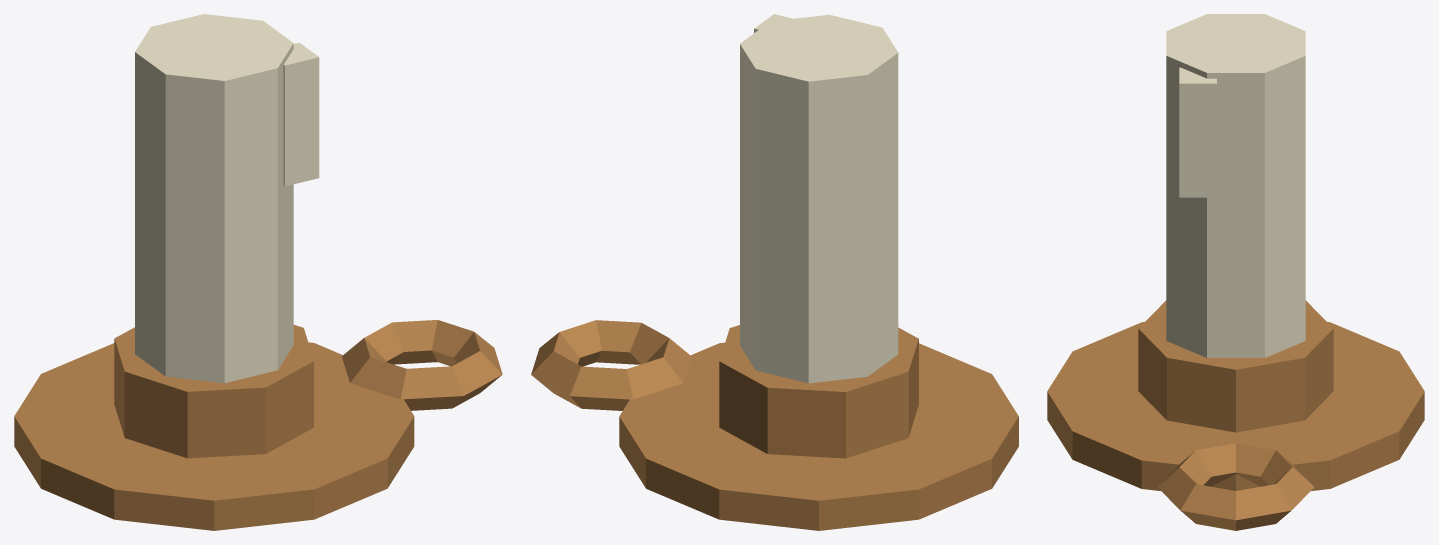
File: candle.glb
3 views of the same model, side by side, from view 1: azimuth 30°, elevation 25°; view 2: azimuth 150°, elevation 25°; view 3: azimuth 270°, elevation 25° (orthographic). The views are drawn at different scales.
Parts seen in each view (by area): view 1: Candle; view 2: Candle; view 3: Candle.
Part boxes in pixels (x1,y1,x2,y2): Candle: [14, 14, 502, 530]; Candle: [531, 14, 1018, 530]; Candle: [1047, 14, 1424, 530].
Size of the model in its own units: 0.785 by 0.66 by 0.6.
